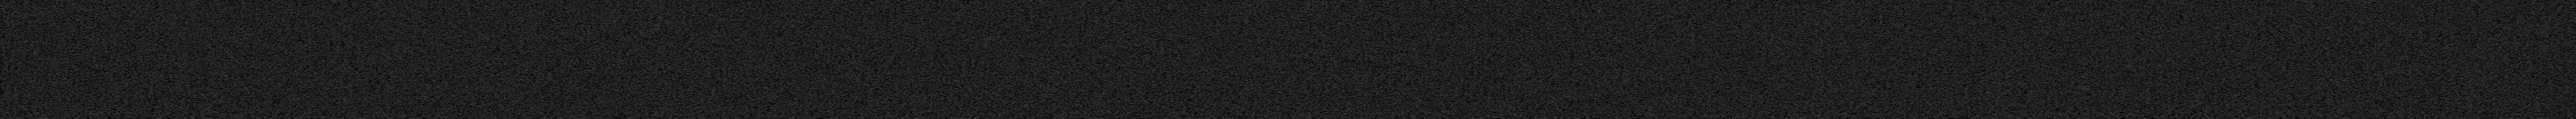wv_am: (1727, 0, 1732, 108), (148, 0, 151, 119), (2170, 0, 2173, 119), (1727, 111, 1732, 119)
wv_cw: (2, 0, 5, 119)
wv_lsb: (711, 62, 715, 90), (18, 52, 21, 80), (711, 0, 715, 26), (18, 93, 21, 119), (18, 0, 21, 26), (18, 29, 21, 51), (711, 90, 715, 108), (711, 28, 715, 34), (18, 80, 21, 86), (711, 34, 715, 39), (18, 86, 21, 91), (711, 111, 715, 112), (18, 26, 21, 28)
wv_usb: (729, 0, 734, 119)
wv_wbfm: (2338, 0, 2377, 119), (764, 0, 800, 119)
